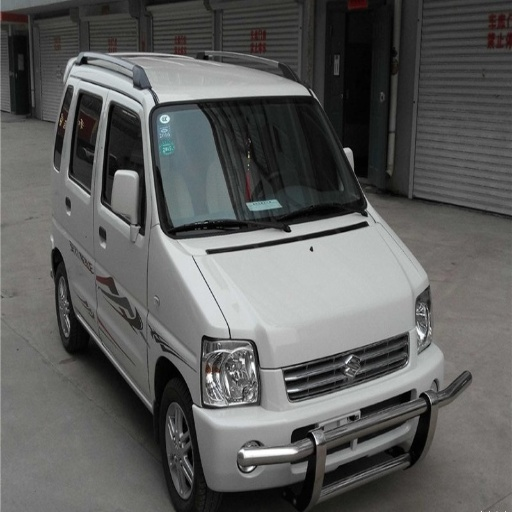front_bumper: (196, 332, 450, 500)
front_right_door: (94, 89, 150, 387)
front_right_light: (201, 338, 263, 407)
